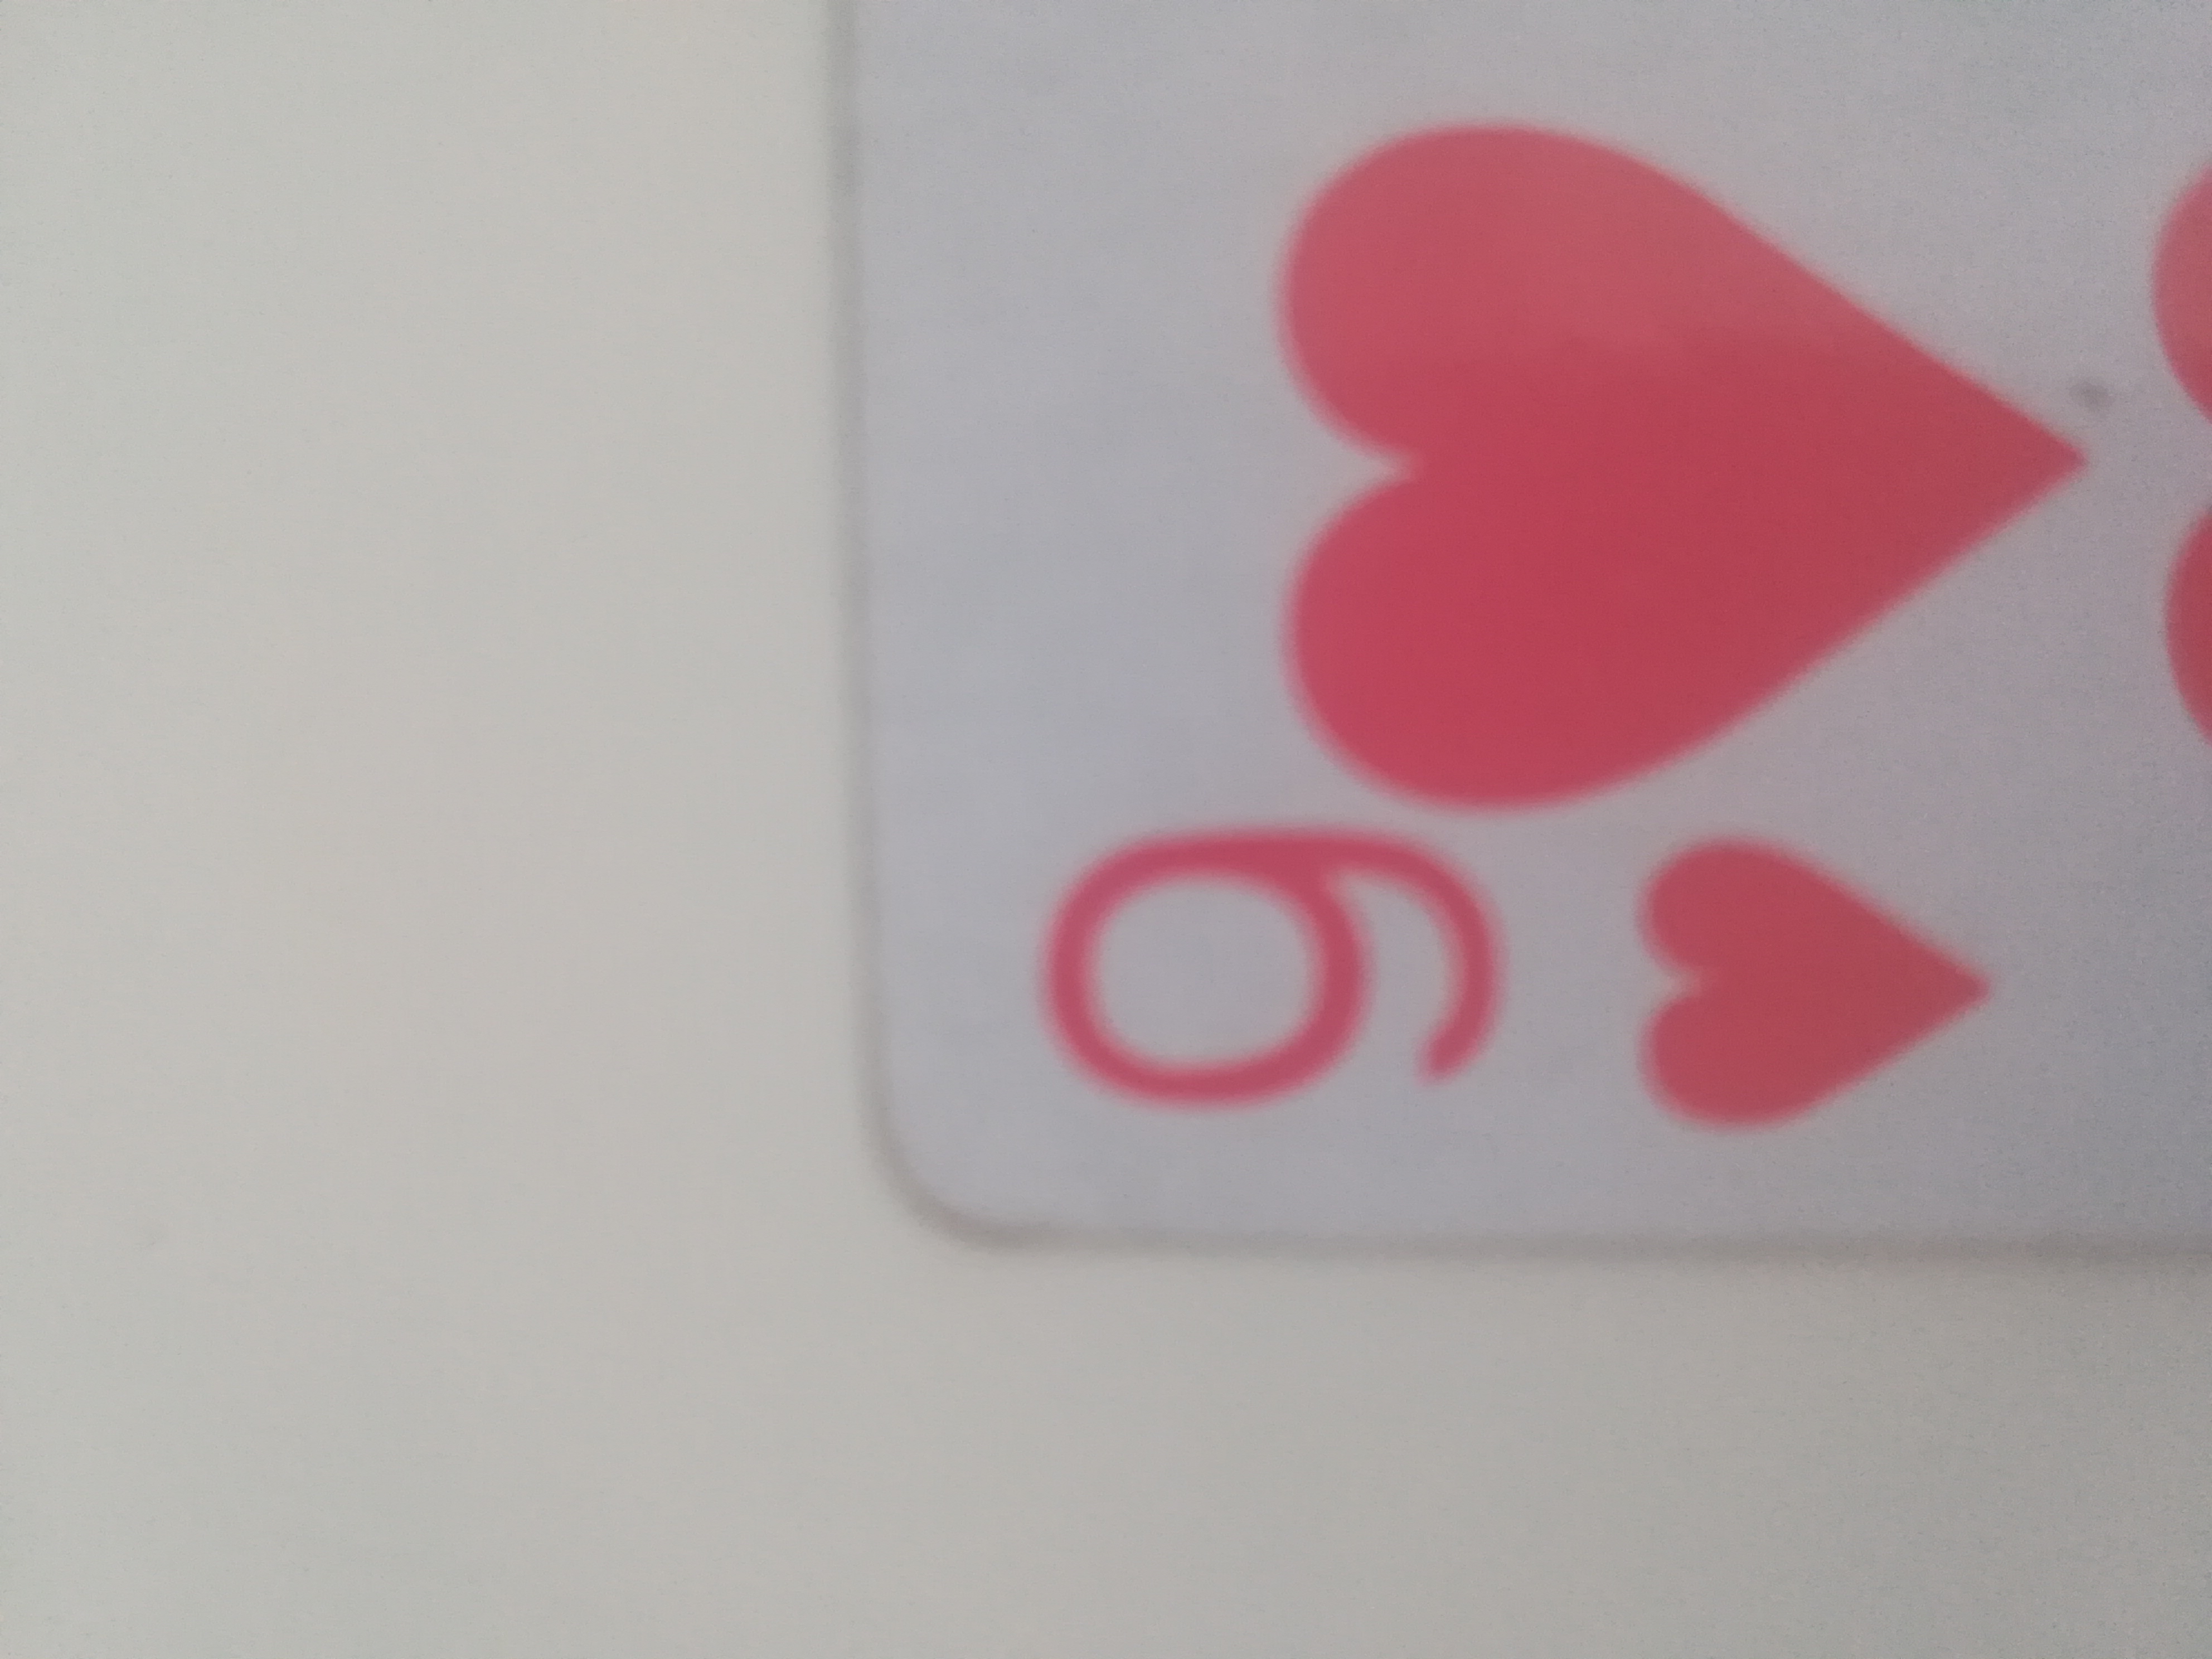9H: (812, 16, 2212, 1276)
